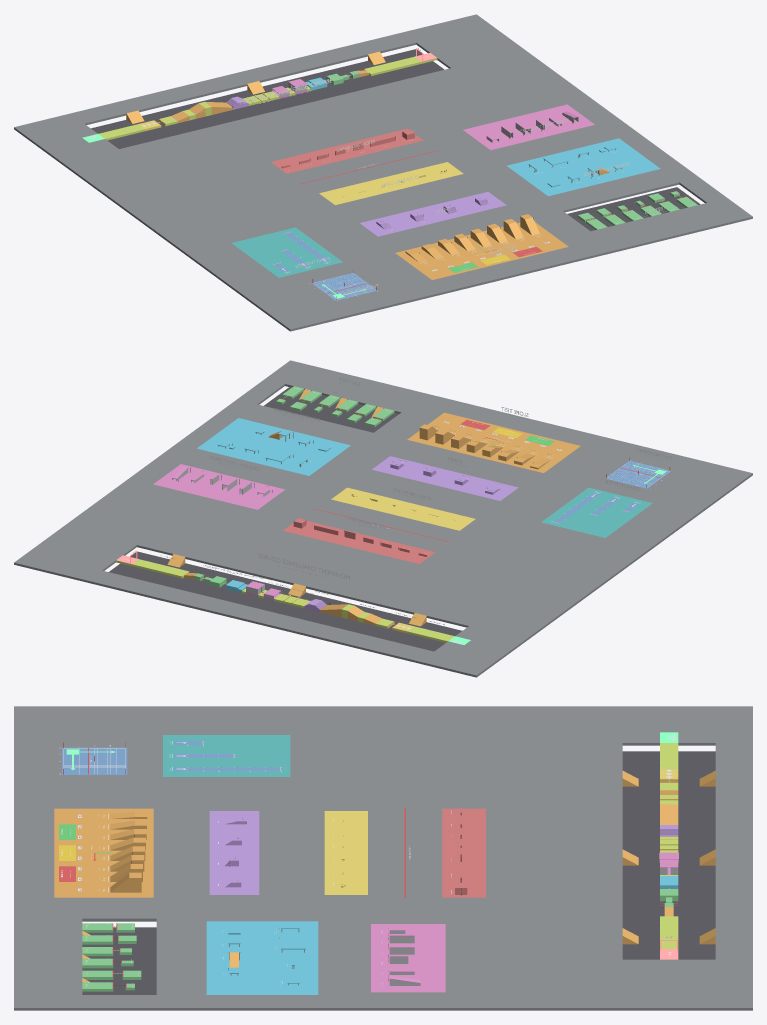
The model's file is GameGym.fbx.
3 renders of one model, top to bottom at view 1: azimuth 30°, elevation 25°; view 2: azimuth 150°, elevation 25°; view 3: azimuth 270°, elevation 25°, orthographic. The views are drawn at different scales.
Visible parts, largest first — view 1: FLAT_Ground_Tile_02, FLAT_Ground_Tile_01, FLAT_Ground_Tile_08, FLAT_Ground_Tile_05, COURSE_PitCatchFloor, FLAT_Ground_Tile_09, FLAT_Ground_Tile_03, ELEV_ZoneTint, SLOPE_ZoneTint, PATH_ZoneTint, CROUCH_ZoneTint, SMALL_ZoneTint (+7 smaller); view 2: FLAT_Ground_Tile_02, FLAT_Ground_Tile_01, FLAT_Ground_Tile_08, FLAT_Ground_Tile_05, COURSE_PitCatchFloor, FLAT_Ground_Tile_09, FLAT_Ground_Tile_03, ELEV_ZoneTint, SLOPE_ZoneTint, PATH_ZoneTint, CROUCH_ZoneTint, STAIRS_ZoneTint (+7 smaller); view 3: FLAT_Ground_Tile_02, FLAT_Ground_Tile_01, FLAT_Ground_Tile_08, COURSE_PitCatchFloor, FLAT_Ground_Tile_05, FLAT_Ground_Tile_09, ELEV_ZoneTint, FLAT_Ground_Tile_03, SLOPE_ZoneTint, PATH_ZoneTint, CROUCH_ZoneTint, LARGE_ZoneTint (+9 smaller).
Boxes of the visible parts, x1,y1,x2,y2 form: FLAT_Ground_Tile_02: [119, 83, 616, 317]; FLAT_Ground_Tile_01: [14, 113, 346, 331]; FLAT_Ground_Tile_08: [403, 19, 679, 197]; FLAT_Ground_Tile_05: [389, 68, 625, 212]; COURSE_PitCatchFloor: [91, 49, 444, 148]; FLAT_Ground_Tile_09: [457, 14, 752, 223]; FLAT_Ground_Tile_03: [70, 47, 353, 124]; ELEV_ZoneTint: [507, 138, 660, 196]; SLOPE_ZoneTint: [395, 222, 568, 279]; PATH_ZoneTint: [231, 227, 342, 277]; CROUCH_ZoneTint: [463, 104, 594, 149]; SMALL_ZoneTint: [319, 162, 463, 205]; FLAT_Ground_Tile_02: [199, 393, 696, 627]; FLAT_Ground_Tile_01: [420, 459, 752, 677]; FLAT_Ground_Tile_08: [34, 404, 310, 582]; FLAT_Ground_Tile_05: [137, 418, 373, 562]; COURSE_PitCatchFloor: [109, 551, 462, 651]; FLAT_Ground_Tile_09: [14, 360, 309, 569]; FLAT_Ground_Tile_03: [150, 586, 433, 663]; ELEV_ZoneTint: [197, 418, 350, 475]; SLOPE_ZoneTint: [407, 412, 580, 472]; PATH_ZoneTint: [541, 487, 652, 537]; CROUCH_ZoneTint: [153, 464, 285, 509]; STAIRS_ZoneTint: [372, 456, 518, 500]; FLAT_Ground_Tile_02: [14, 743, 622, 921]; FLAT_Ground_Tile_01: [14, 706, 752, 745]; FLAT_Ground_Tile_08: [156, 959, 752, 994]; COURSE_PitCatchFloor: [622, 751, 715, 959]; FLAT_Ground_Tile_05: [156, 918, 622, 959]; FLAT_Ground_Tile_09: [14, 995, 752, 1010]; ELEV_ZoneTint: [206, 921, 318, 994]; FLAT_Ground_Tile_03: [715, 743, 752, 918]; SLOPE_ZoneTint: [54, 808, 153, 897]; PATH_ZoneTint: [163, 735, 290, 776]; CROUCH_ZoneTint: [371, 924, 445, 992]; LARGE_ZoneTint: [442, 808, 485, 897].
Bounding box in the file's own units: 23000 × 1367 × 23800.
